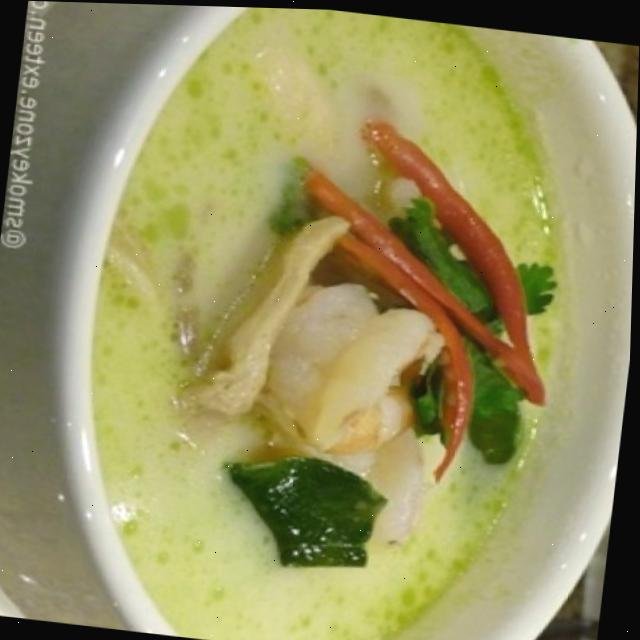汤锅炖物: (2, 0, 637, 640)
